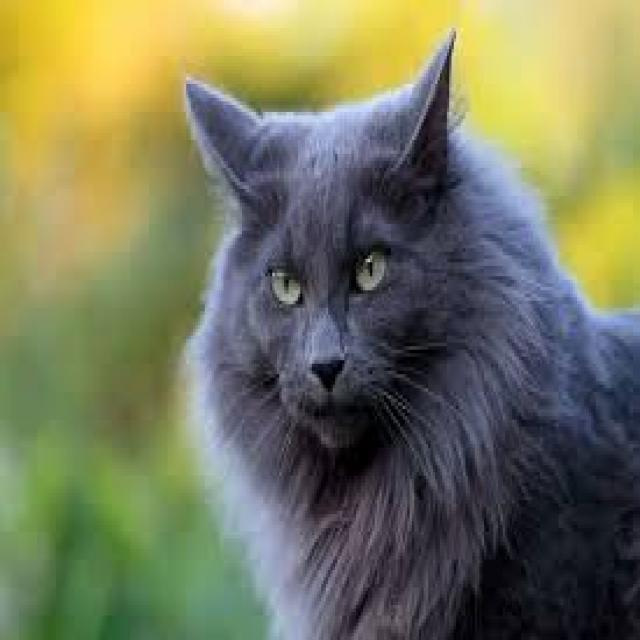Cat: (168, 23, 640, 640)
